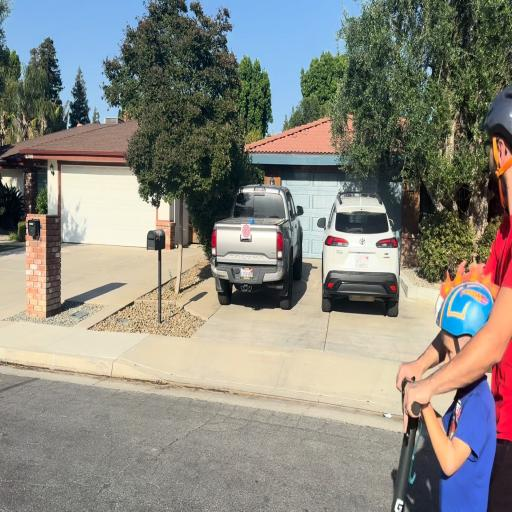bullseye: (242, 224, 250, 238)
